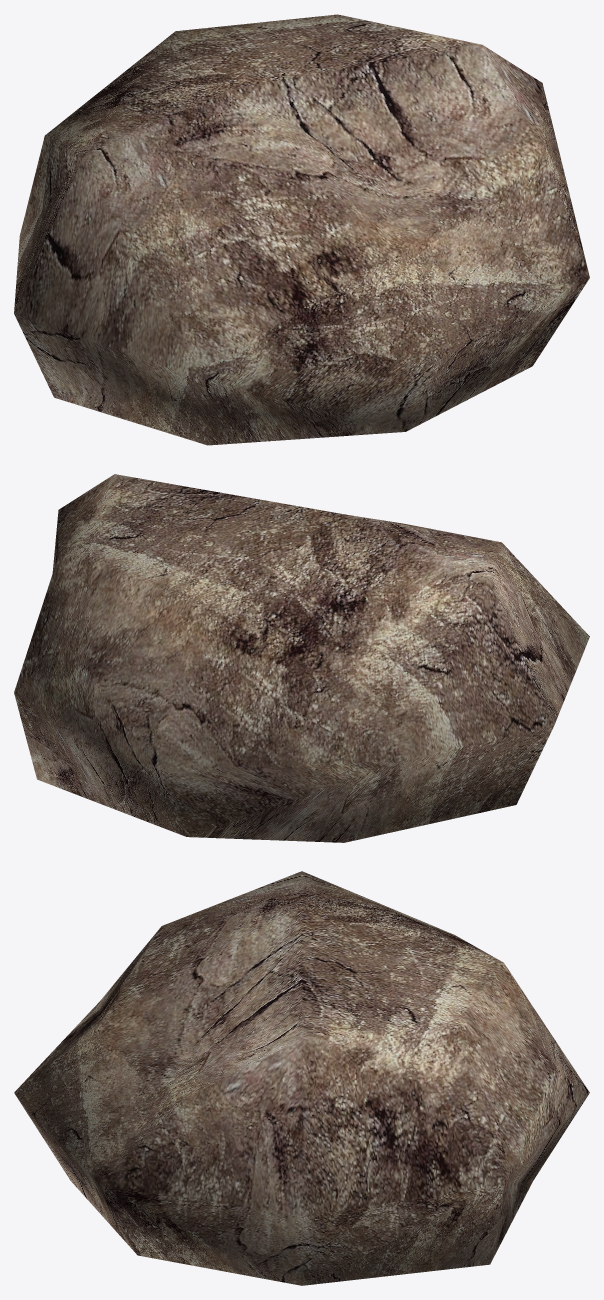
The model's file is small_boulder03.fbx.
3 renders of one model, top to bottom at view 1: azimuth 30°, elevation 25°; view 2: azimuth 150°, elevation 25°; view 3: azimuth 270°, elevation 25°, orthographic. The views are drawn at different scales.
Visible parts, largest first — view 1: mesh_0; view 2: mesh_0; view 3: mesh_0.
Boxes of the visible parts, box(x1,y1,x2,y2) form: mesh_0: box(14, 14, 589, 445); mesh_0: box(14, 474, 589, 842); mesh_0: box(14, 871, 589, 1285).
Size of the model in its own units: 176 by 82.99 by 174.
1 material, 1 textured.
